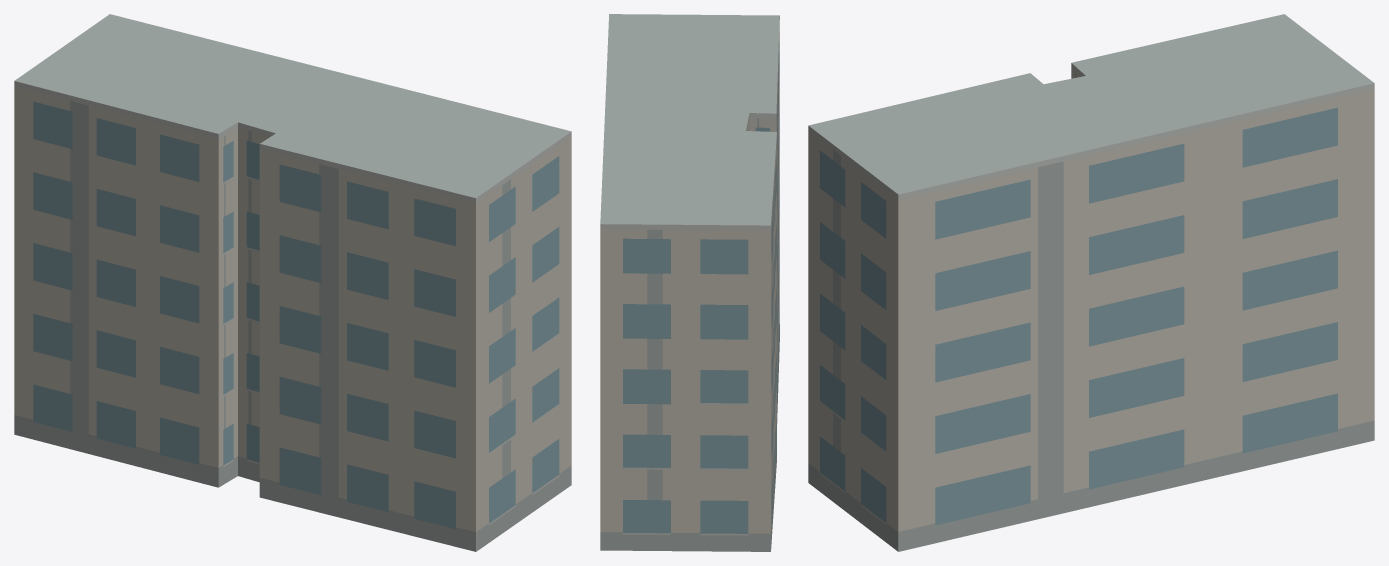
Rendered from survey-upis-32695328.glb.
3 views of the same model, side by side, from view 1: azimuth 30°, elevation 25°; view 2: azimuth 150°, elevation 25°; view 3: azimuth 270°, elevation 25° (orthographic). The views are drawn at different scales.
Visible parts, largest first — view 1: survey-upis-32695328.tmp; view 2: survey-upis-32695328.tmp; view 3: survey-upis-32695328.tmp.
Boxes of the visible parts, bbox=[...] form: survey-upis-32695328.tmp: bbox=[14, 14, 571, 551]; survey-upis-32695328.tmp: bbox=[600, 14, 779, 551]; survey-upis-32695328.tmp: bbox=[808, 14, 1374, 551].
Bounding box in the file's own units: 17.41 × 16.05 × 23.07.
